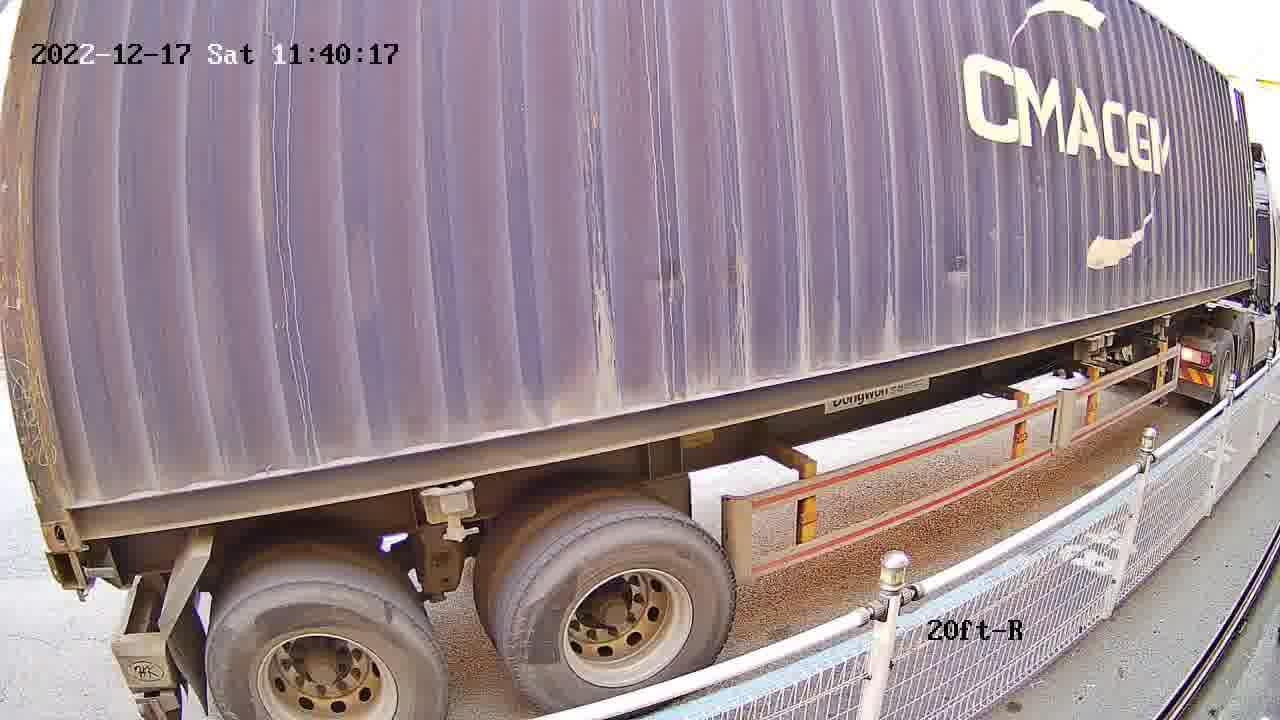Cone: (48, 548, 97, 593)
Hole_L: (30, 479, 115, 551)
Tire: (506, 514, 739, 711), (205, 583, 448, 719)
